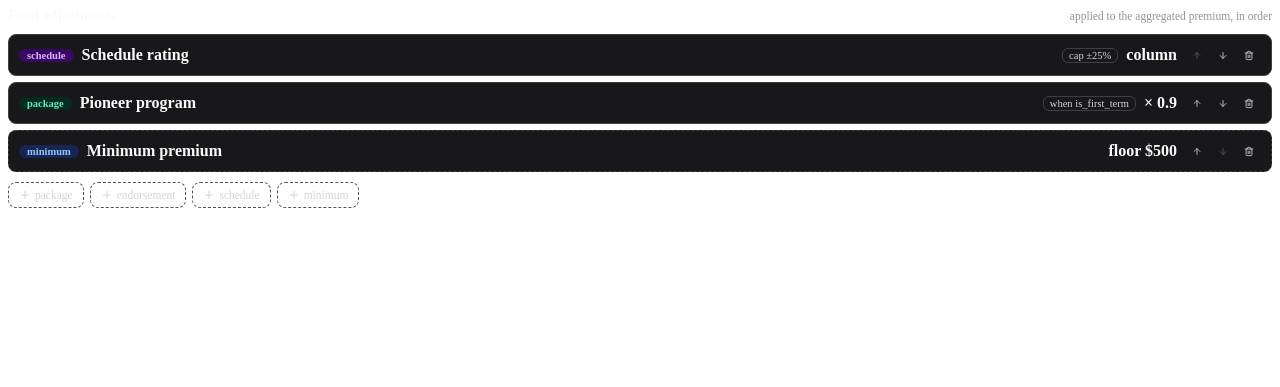
Test: FinalAdjustmentsEditor › the Connector segment is disabled with none supplied (62.6)
Click the button "Schedule rating" at {"x": 135, "y": 54}, box [82, 46, 1054, 64]
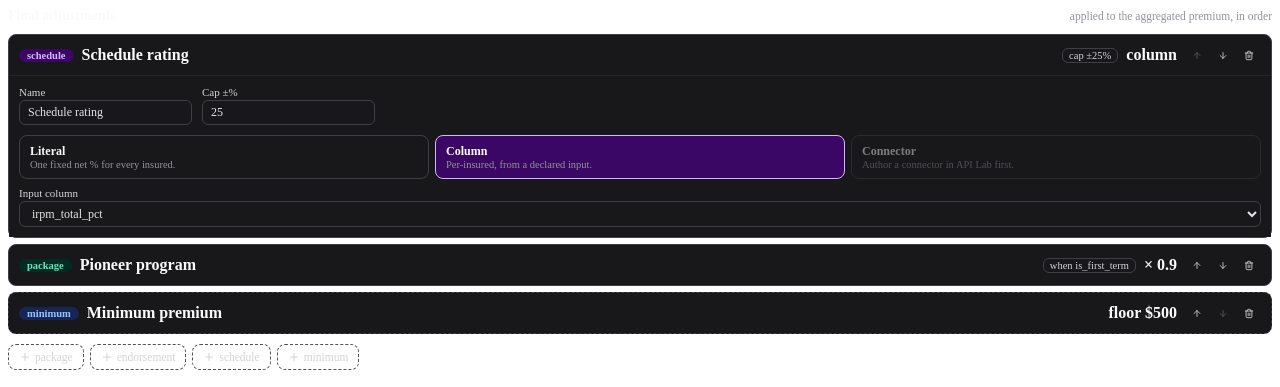
Now the button "Connector Author a connector in API Lab first." is disabled, box [851, 135, 1261, 179]
